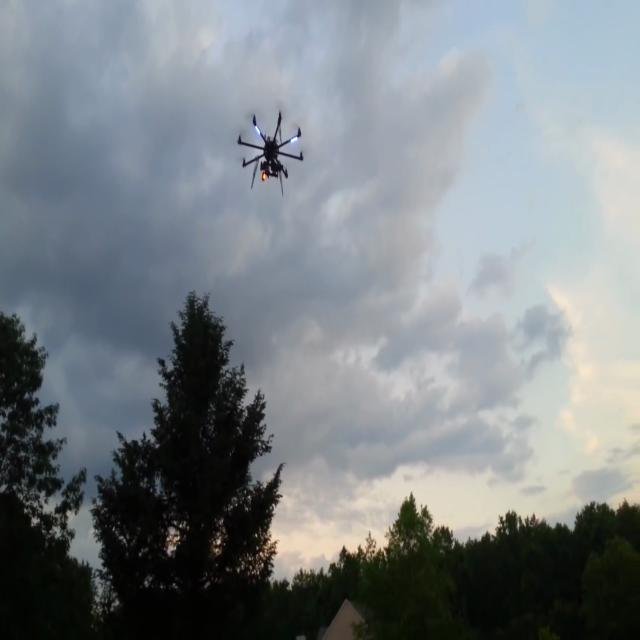drone: (232, 102, 318, 214)
